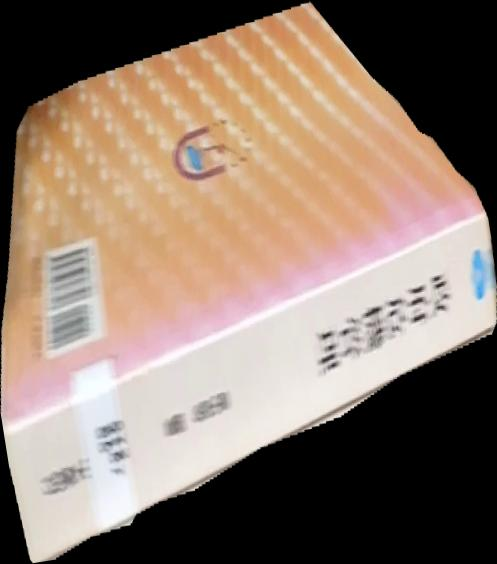flat: (1, 1, 497, 564)
